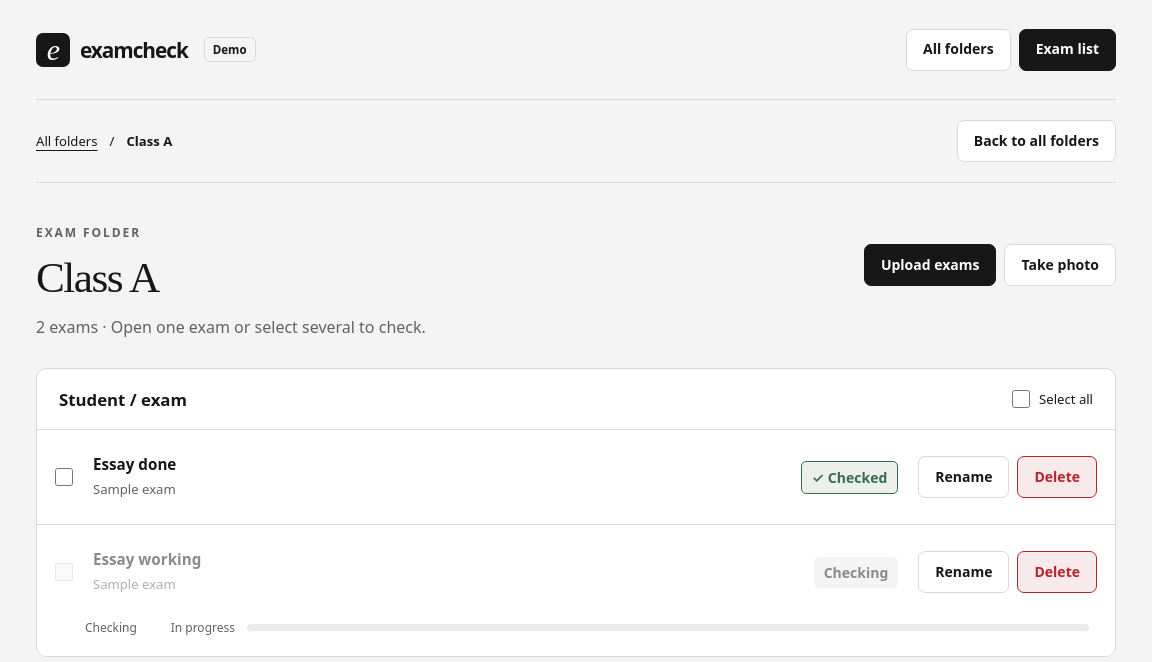
Test: React workspace workflows › opens checked exams in review and keeps processing exams unavailable
Step 1. Click the button "Essay done Sample exam ✓ Checked" → (135, 464), box top-left (85, 442), bottom-right (906, 512)
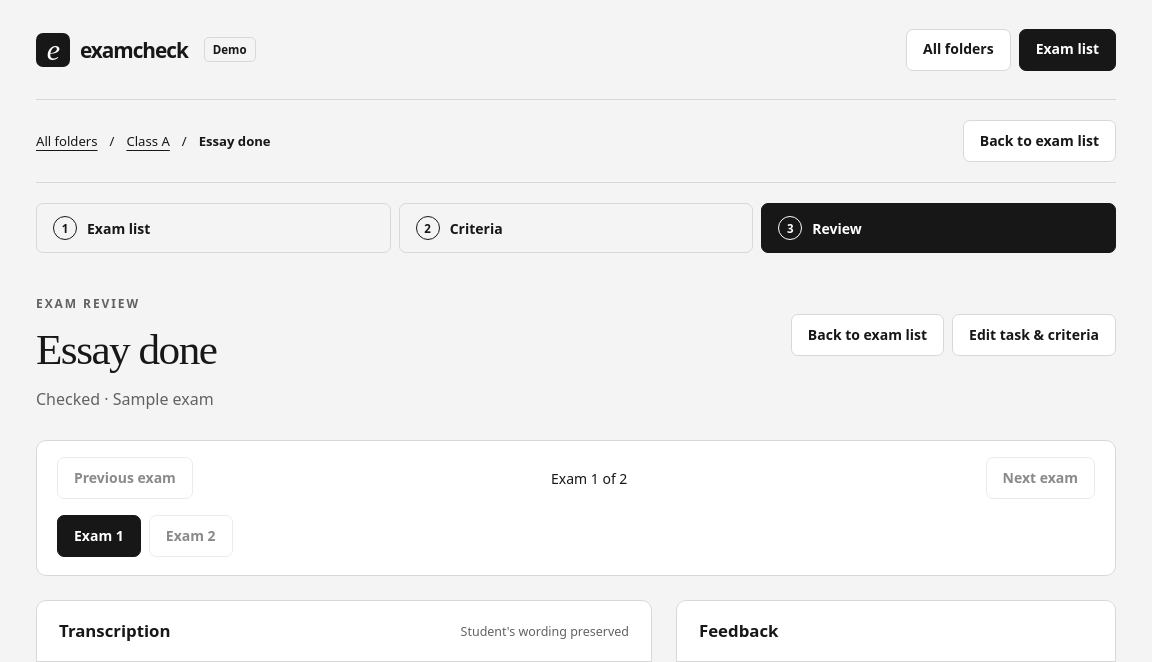
expect the heading "Transcription" is shown: met, box top-left (59, 620), bottom-right (170, 643)
expect the button "Next exam" is disabled: met, box top-left (986, 458), bottom-right (1095, 500)
